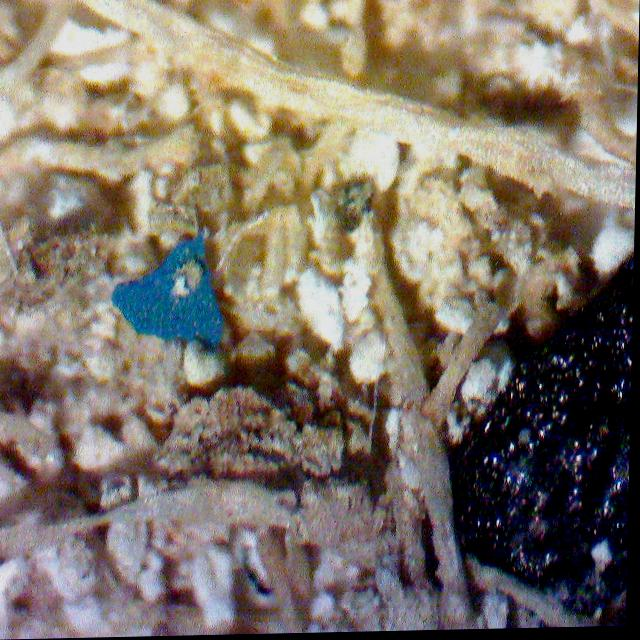microplastic: (103, 233, 233, 373)
